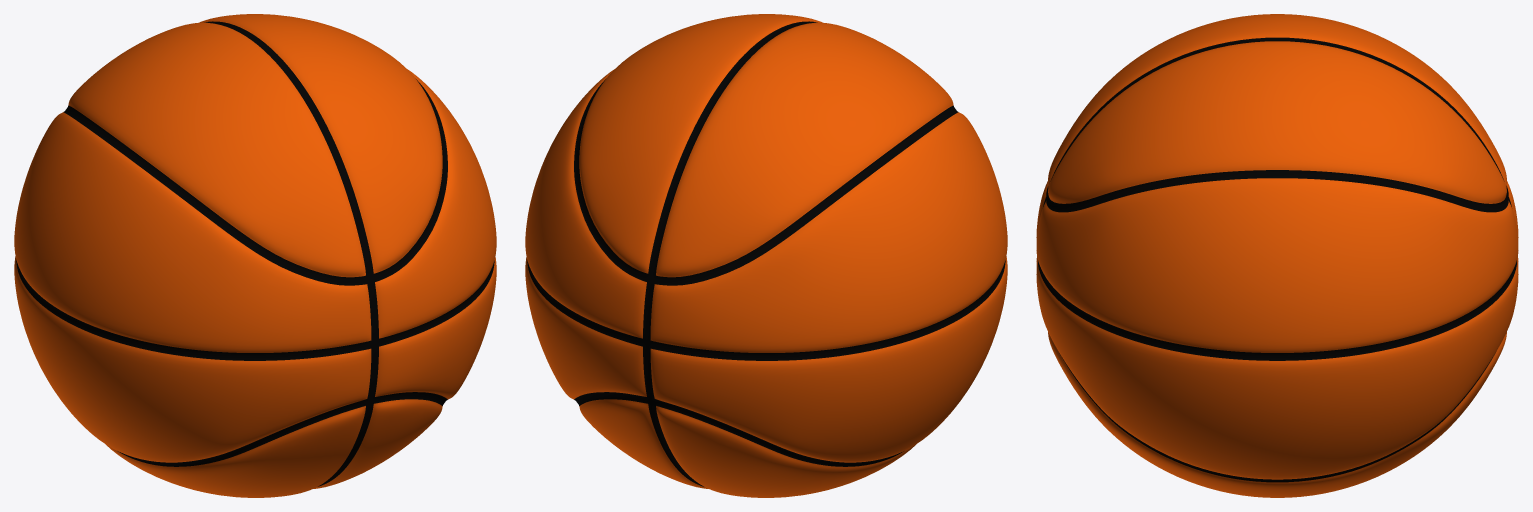
The model's file is Basketball.fbx.
The picture shows the model from 3 angles, left to right: view 1: azimuth 30°, elevation 25°; view 2: azimuth 150°, elevation 25°; view 3: azimuth 270°, elevation 25°; orthographic projection.
Parts seen in each view (by area): view 1: Cube; view 2: Cube; view 3: Cube.
Part boxes in pixels (x1,y1,x2,y2): Cube: [14, 14, 496, 497]; Cube: [525, 14, 1007, 497]; Cube: [1036, 14, 1518, 497].
Size of the model in its own units: 162 by 162 by 162.
